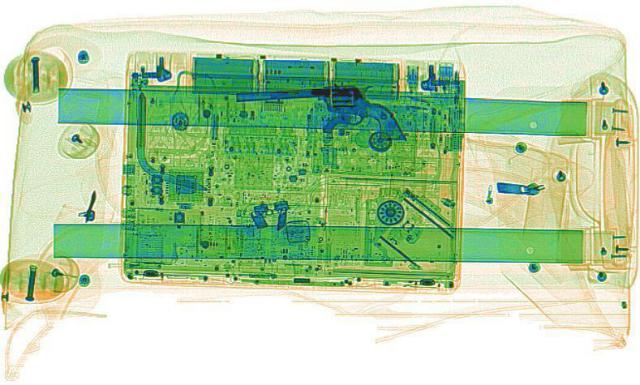Gun: (230, 80, 406, 148)
